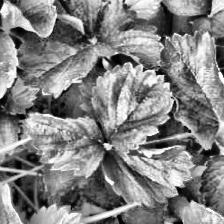Powdery Mildew Leaf: (154, 27, 224, 150), (89, 61, 175, 155), (101, 146, 195, 208), (22, 112, 108, 179), (0, 0, 58, 38), (0, 8, 20, 116)
